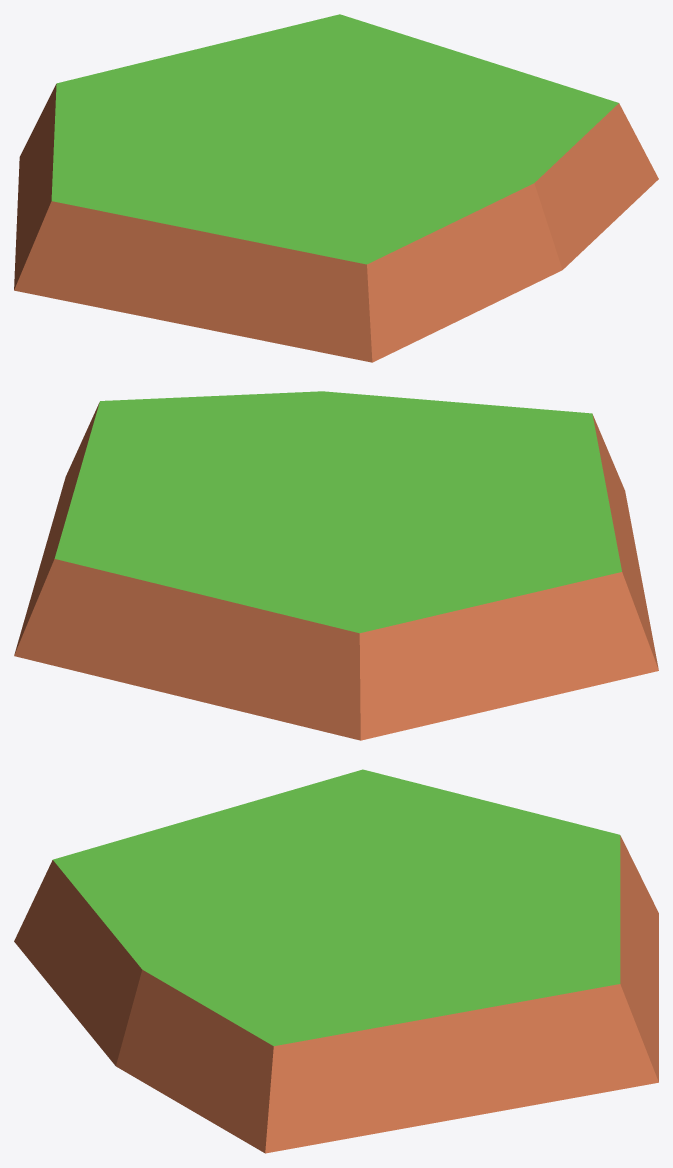
The model's file is rock_smallFlatA.glb.
The picture shows the model from 3 angles, top to bottom: view 1: azimuth 30°, elevation 25°; view 2: azimuth 150°, elevation 25°; view 3: azimuth 270°, elevation 25°; orthographic projection. The views are drawn at different scales.
Visible parts, largest first — view 1: rock_smallFlatA; view 2: rock_smallFlatA; view 3: rock_smallFlatA.
Boxes of the visible parts, x1=… form: rock_smallFlatA: x1=14, y1=14, x2=658, y2=362; rock_smallFlatA: x1=14, y1=391, x2=658, y2=740; rock_smallFlatA: x1=14, y1=769, x2=658, y2=1153.
Size of the model in its own units: 0.4958 by 0.0649 by 0.4296.
